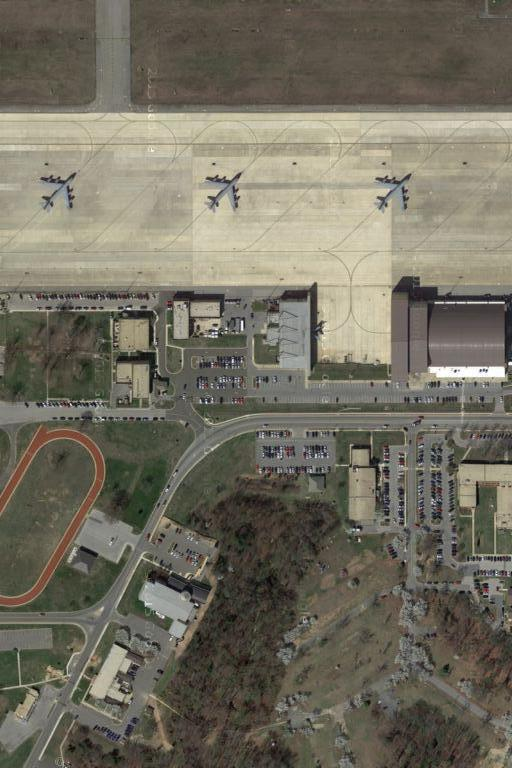KC-135: (370, 173, 413, 217), (200, 172, 241, 217), (37, 171, 77, 215)
